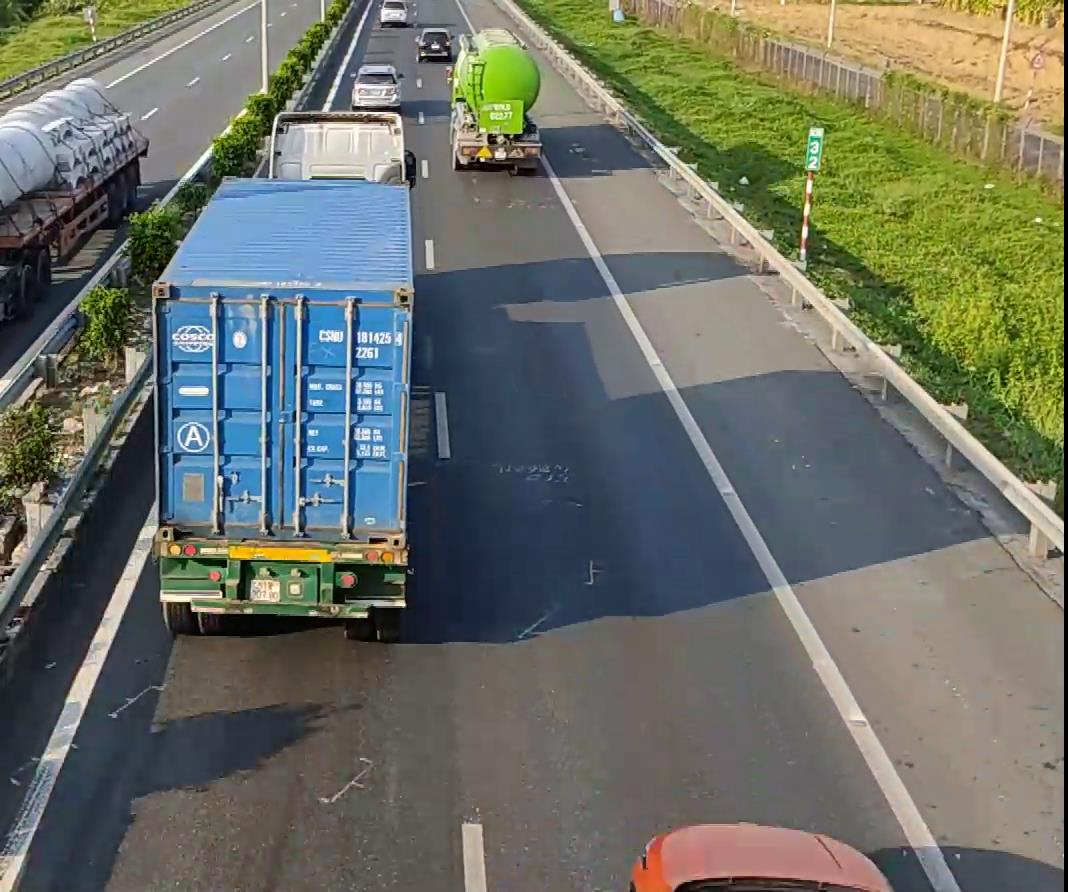container: (151, 99, 420, 633), (447, 28, 542, 171)
